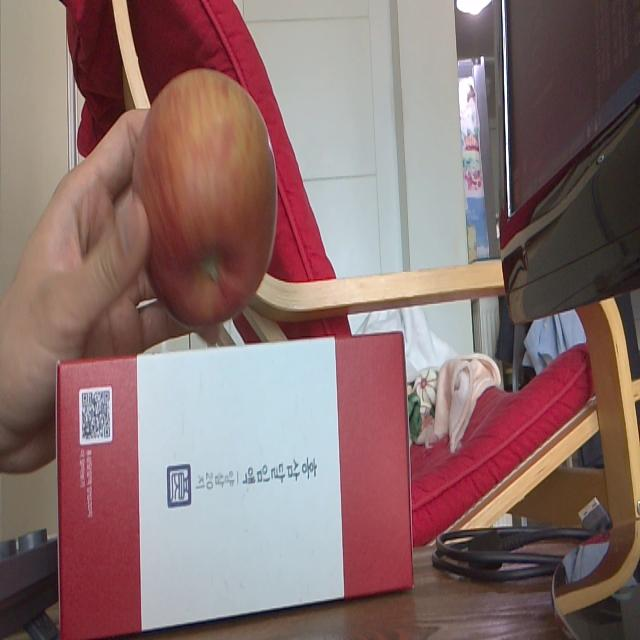apple: (129, 64, 283, 333)
